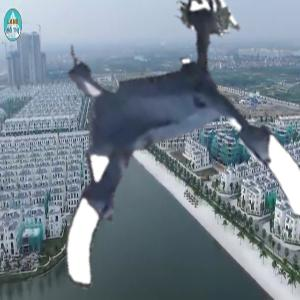drone: (13, 12, 294, 293)
